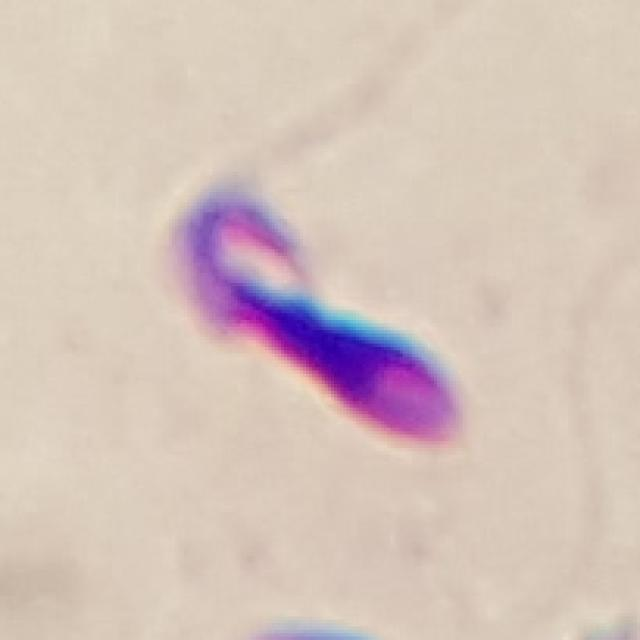abnormal sperm: (169, 117, 468, 446)
